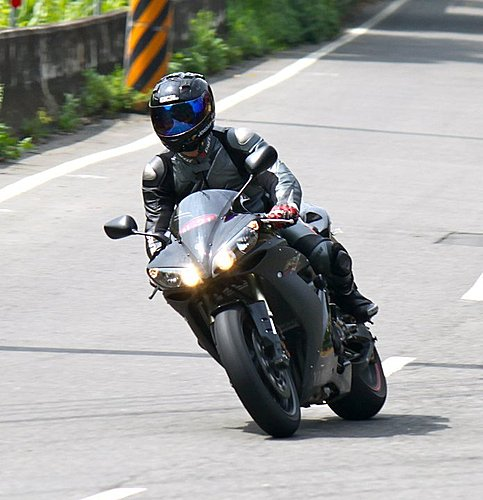helmet: (150, 78, 221, 144)
